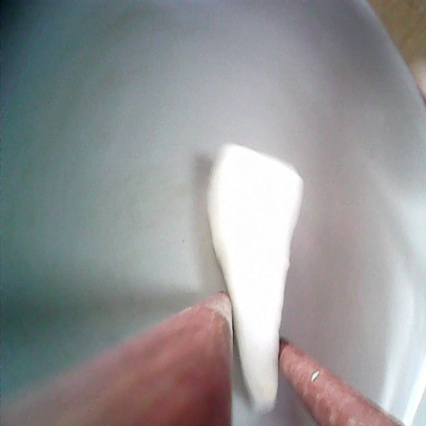white_chinese-yam: (209, 138, 304, 411)
